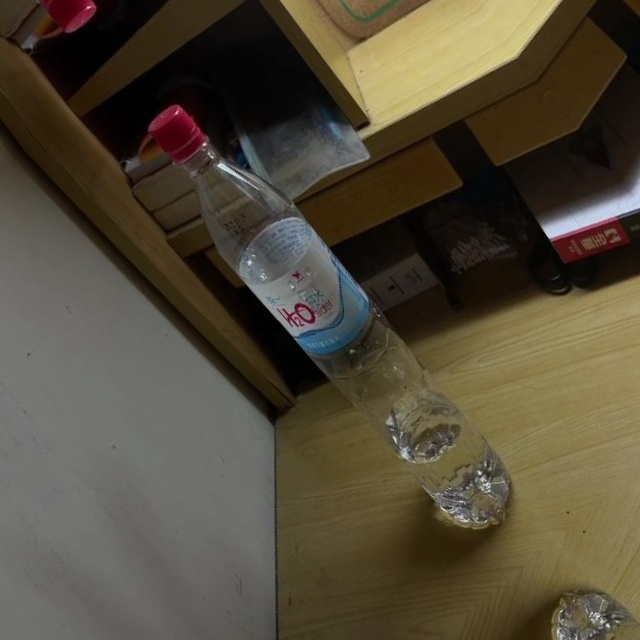Water: (124, 83, 537, 550)
